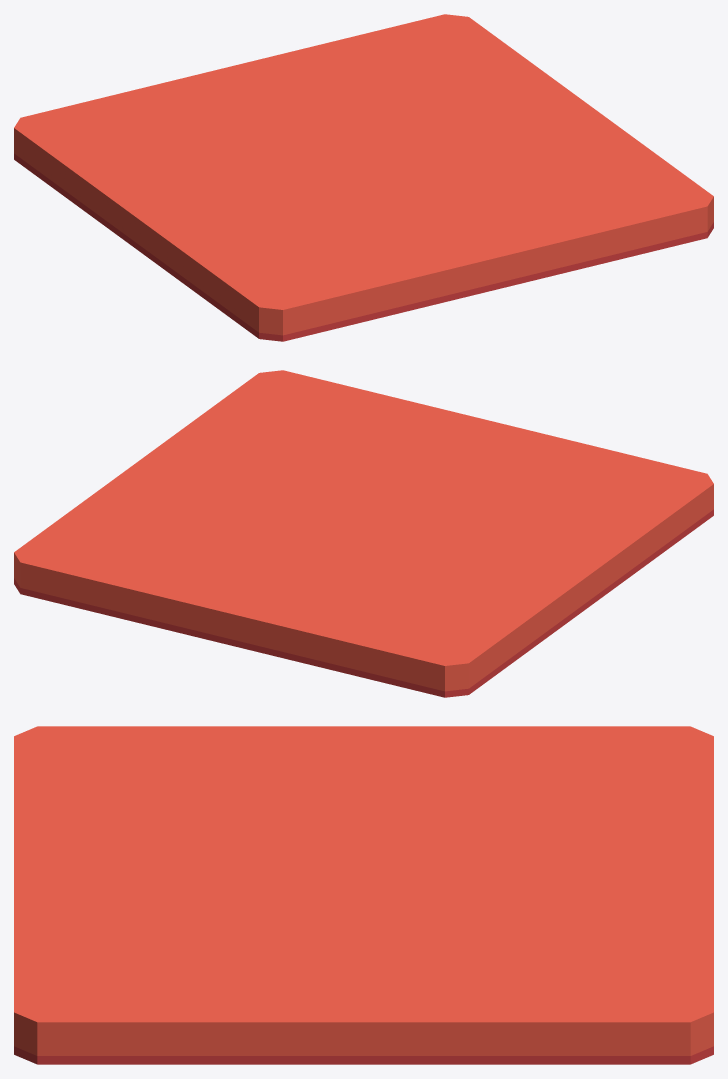
Rendered from 15x15_platform.fbx.
3 views of the same model, one above another, from view 1: azimuth 30°, elevation 25°; view 2: azimuth 150°, elevation 25°; view 3: azimuth 270°, elevation 25° (orthographic). The views are drawn at different scales.
Visible parts, largest first — view 1: block (×221), block_corner_small (×3); view 2: block (×221), block_corner_small (×3); view 3: block (×221), block_corner_small (×4).
Boxes of the visible parts, x1,y1,x2,y2 form: block (×221): (22, 18, 704, 337); block_corner_small (×3): (14, 114, 713, 341); block (×221): (23, 374, 705, 693); block_corner_small (×3): (14, 470, 713, 697); block (×221): (14, 726, 713, 1064); block_corner_small (×4): (14, 726, 713, 1064).
Bounding box in the file's own units: 150 × 10 × 150.
